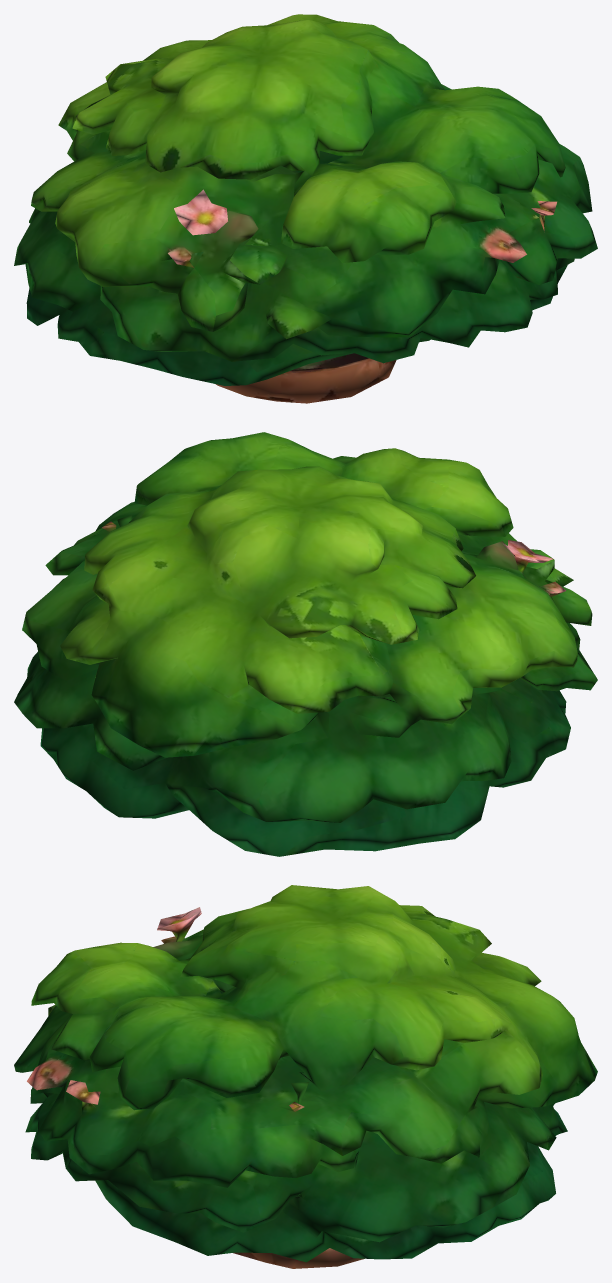
File: bush.glb
3 renders of one model, top to bottom at view 1: azimuth 30°, elevation 25°; view 2: azimuth 150°, elevation 25°; view 3: azimuth 270°, elevation 25°, orthographic. The views are drawn at different scales.
Bounding box in the file's own units: 0.9432 × 0.5741 × 0.9906.
1 material, 1 textured.
